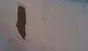Corrosion: (15, 5, 27, 40)
